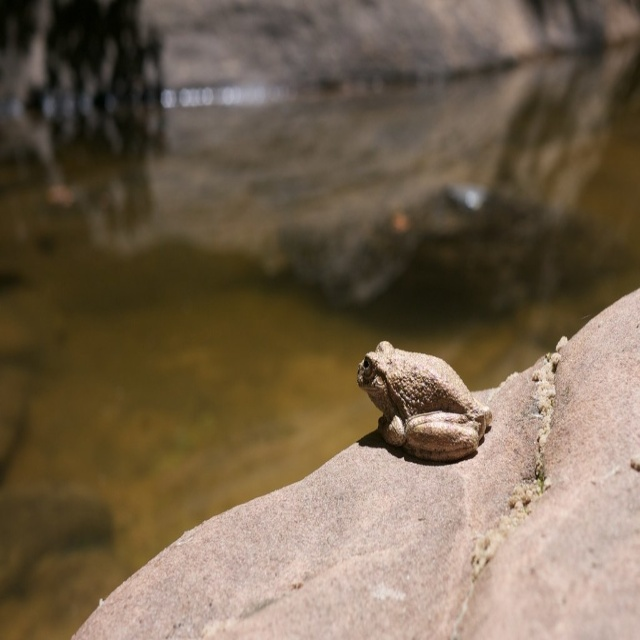Frog: (356, 339, 490, 464)
